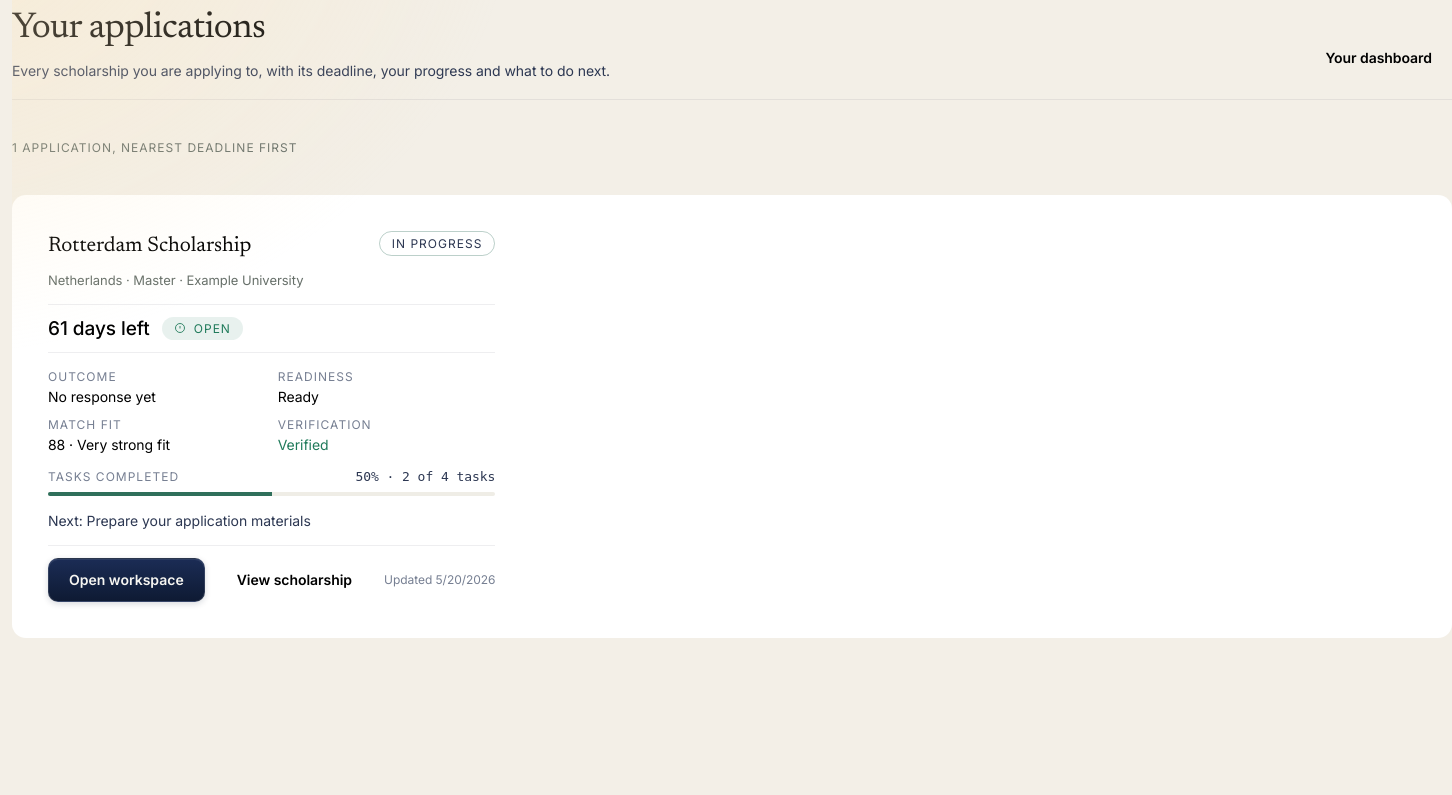
it: ApplicationWorkspace › offers the outcome control once submitted and refuses to offer a reopen
Click the button "Open workspace": [126, 580] box x1=48 y1=558 x2=205 y2=602
(page scrolled)
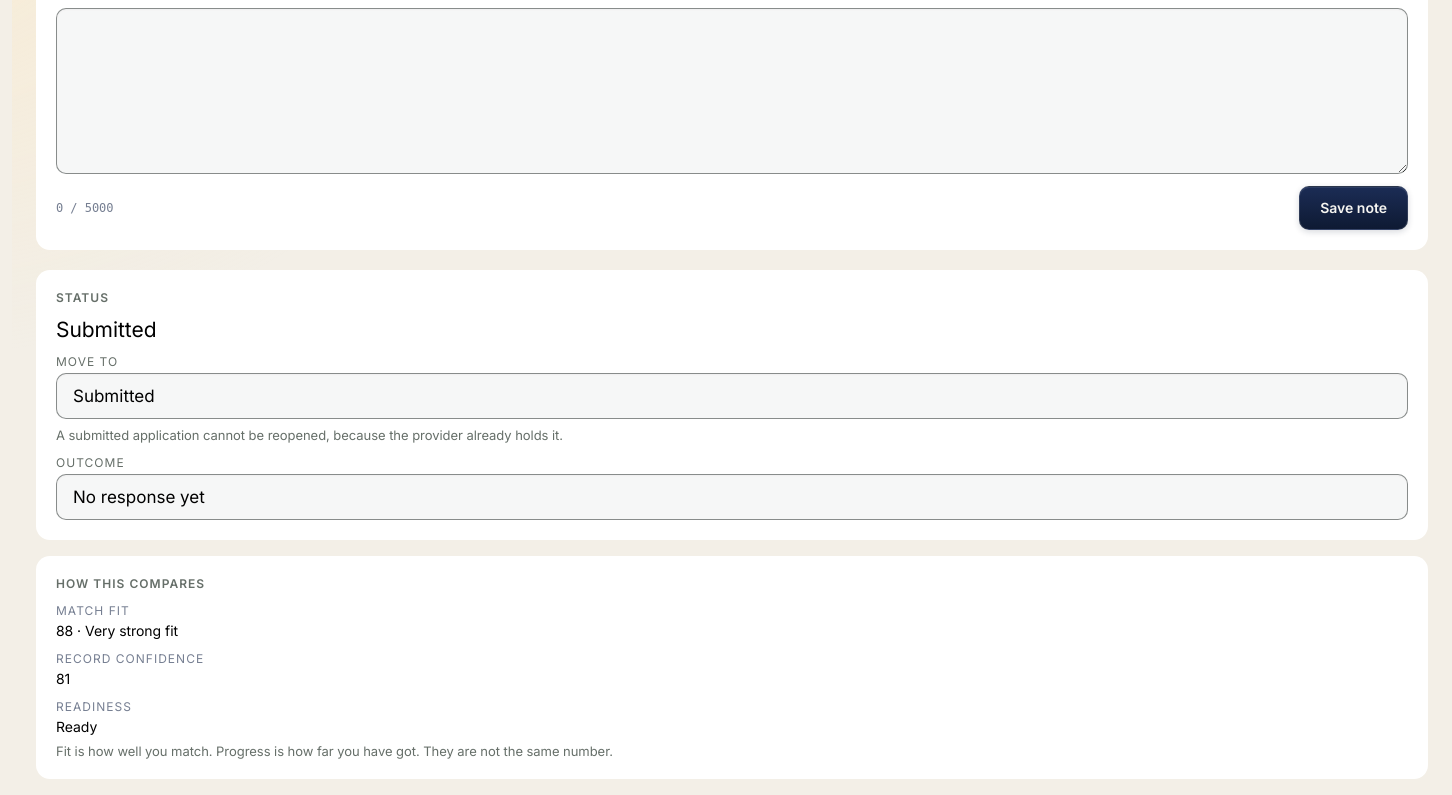
Check: the dropdown labelled "Outcome" is shown, box x1=56 y1=474 x2=1408 y2=520
Check: the text "cannot be reopened, because the provider already holds it" is shown, box x1=56 y1=427 x2=563 y2=443
